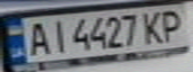2: (103, 12, 124, 48)
4: (87, 13, 109, 51), (69, 15, 90, 52)
7: (121, 11, 142, 47)
A: (21, 19, 54, 56)
I: (45, 17, 72, 54)
K: (139, 8, 169, 45)
P: (157, 6, 190, 42)
